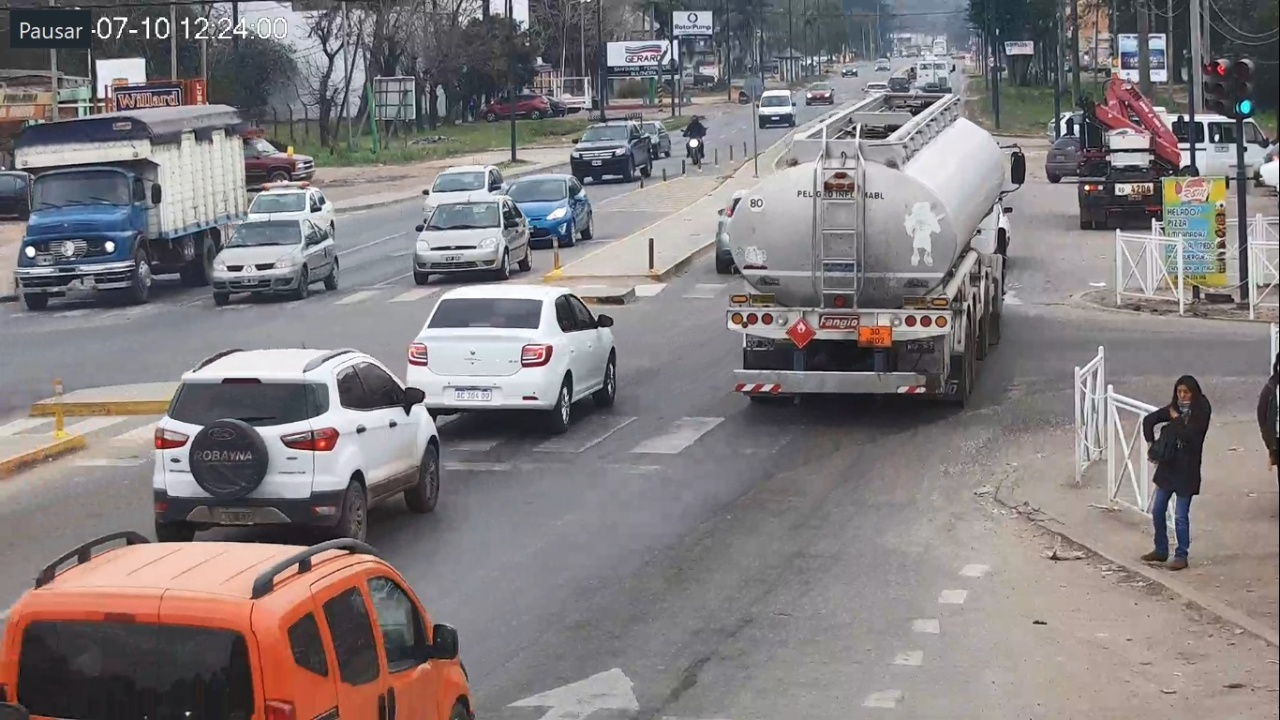car: (2, 531, 471, 720), (153, 347, 442, 545), (405, 284, 618, 430)
traffic light: (1233, 58, 1256, 117)
truck: (728, 91, 1026, 406)
